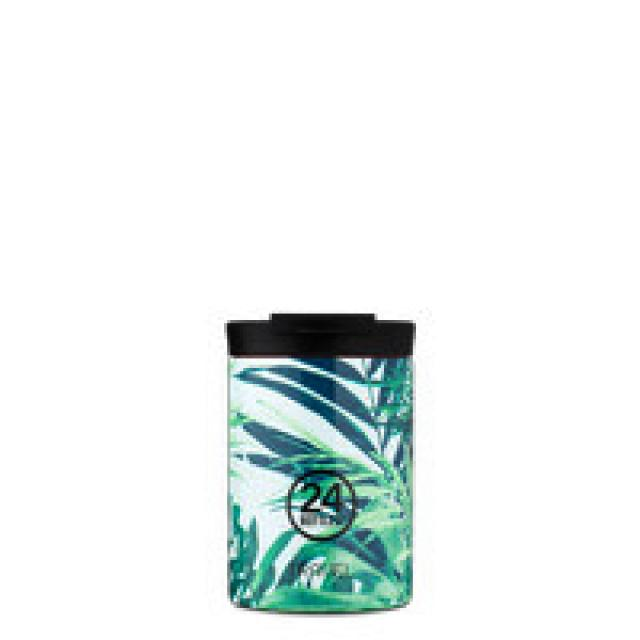bottle: (225, 313, 412, 615)
